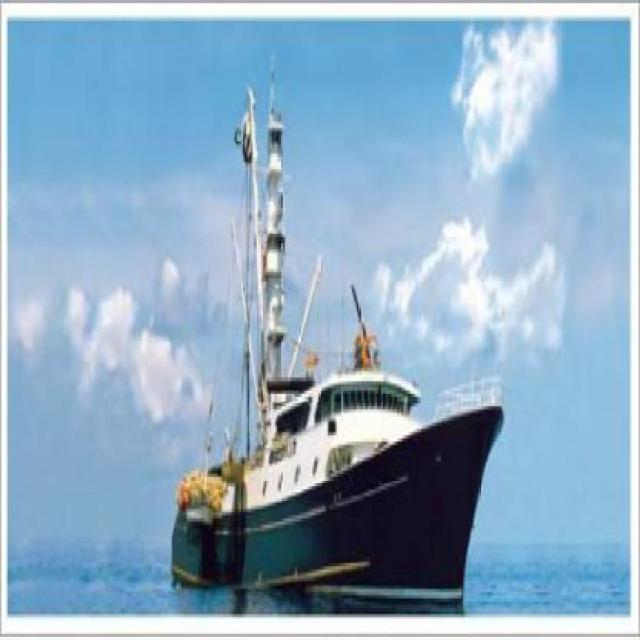fish-b: (160, 46, 511, 631)
